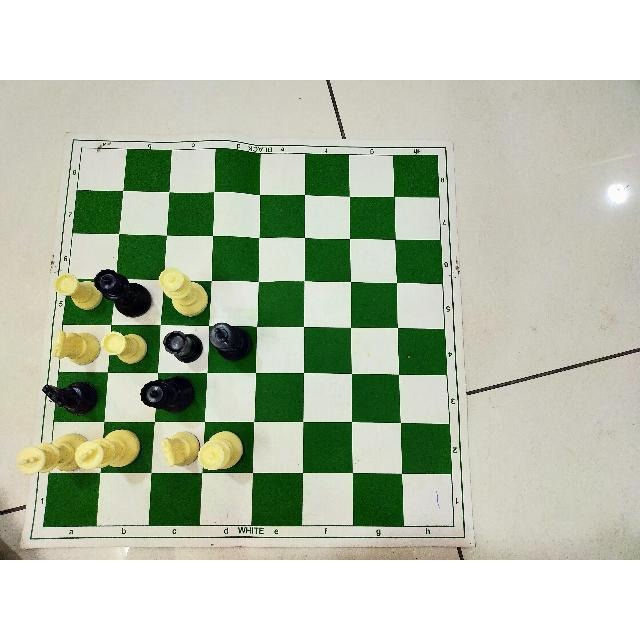black-king: (208, 321, 252, 362)
black-knight: (40, 381, 97, 417)
black-queen: (94, 267, 152, 319), (139, 374, 197, 415)
black-rook: (162, 330, 203, 364)
white-king: (13, 432, 90, 478), (74, 426, 142, 473)
white-knight: (52, 328, 100, 366), (158, 429, 201, 469)
white-queen: (157, 266, 209, 318), (197, 429, 244, 470)
white-rook: (52, 272, 104, 311), (101, 329, 148, 365)
